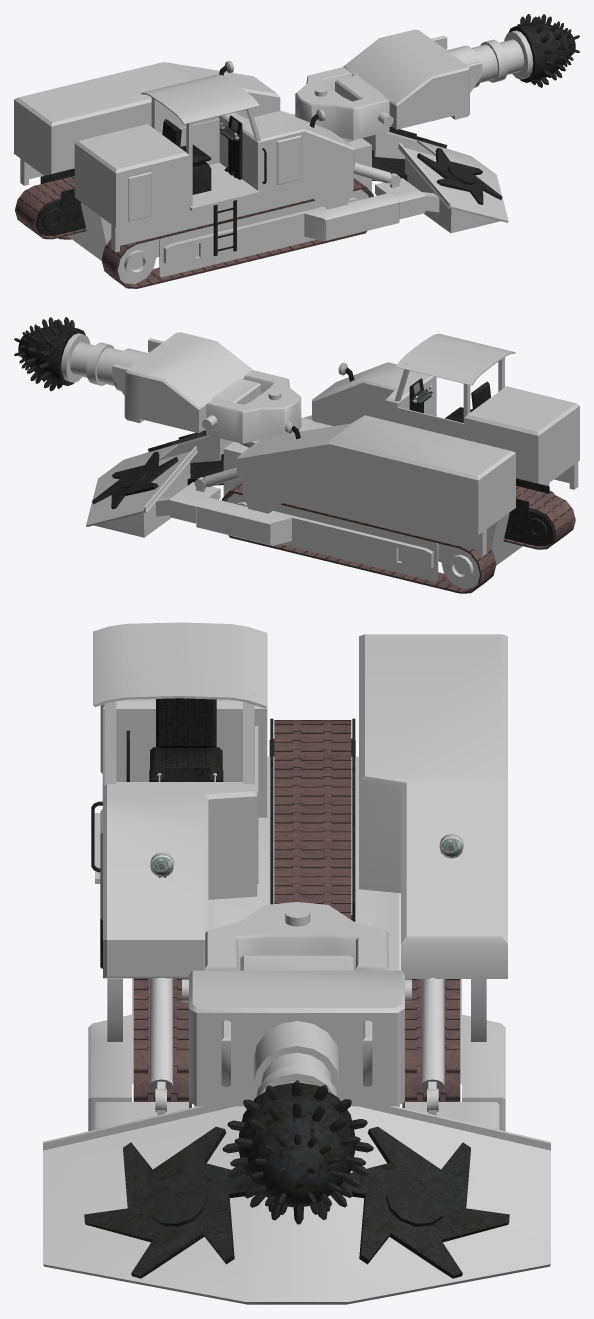
Rendered from teilschnitt_export_triangulated.dae.
3 views of the same model, one above another, from view 1: azimuth 30°, elevation 25°; view 2: azimuth 150°, elevation 25°; view 3: azimuth 270°, elevation 25° (orthographic). The views are drawn at different scales.
Visible parts, largest first — view 1: Body, drill_body, front_shovel, drill, drill_body_rotator, rope, shovel_gear, wheels; view 2: Body, drill_body, front_shovel, drill, drill_body_rotator, rope, shovel_gear, wheels; view 3: Body, front_shovel, drill_body, shovel_gear, drill, drill_body_rotator, rope.
Boxes of the visible parts, x1,y1,x2,y2 form: Body: (14, 61, 439, 277); drill_body: (335, 29, 482, 129); front_shovel: (362, 131, 508, 233); drill: (447, 14, 579, 87); drill_body_rotator: (293, 67, 389, 142); rope: (58, 178, 373, 288); shovel_gear: (389, 126, 502, 204); wheels: (118, 189, 368, 283); Body: (156, 333, 579, 581); drill_body: (112, 332, 260, 433); front_shovel: (86, 435, 233, 537); drill: (14, 317, 147, 391); drill_body_rotator: (206, 370, 311, 447); rope: (222, 482, 555, 593); shovel_gear: (92, 430, 206, 508); wheels: (227, 493, 479, 588); Body: (88, 622, 507, 1131); front_shovel: (43, 1106, 550, 1304); drill_body: (182, 955, 411, 1106); shovel_gear: (84, 1126, 509, 1278); drill: (222, 1021, 373, 1224); drill_body_rotator: (205, 902, 388, 970); rope: (133, 978, 460, 1108).
Size of the model in its own units: 4.79 by 1.44 by 1.93.
